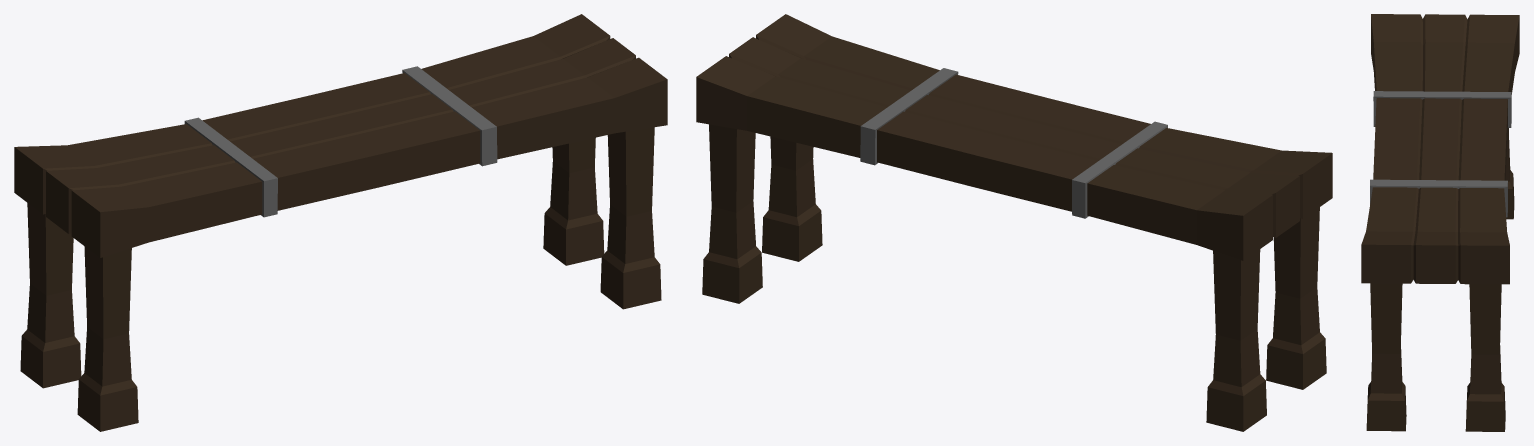
File: low_chair_001.fbx
3 renders of one model, left to right at view 1: azimuth 30°, elevation 25°; view 2: azimuth 150°, elevation 25°; view 3: azimuth 270°, elevation 25°, orthographic. The views are drawn at different scales.
Visible parts, largest first — view 1: low_chair_001; view 2: low_chair_001; view 3: low_chair_001.
Boxes of the visible parts, x1,y1,x2,y2 form: low_chair_001: (14, 14, 667, 431); low_chair_001: (696, 14, 1332, 431); low_chair_001: (1361, 14, 1519, 431).
Size of the model in its own units: 230 by 86.68 by 66.31.
